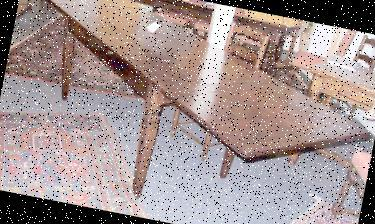Mesa: (0, 0, 374, 223)
Silla: (162, 15, 274, 165)
